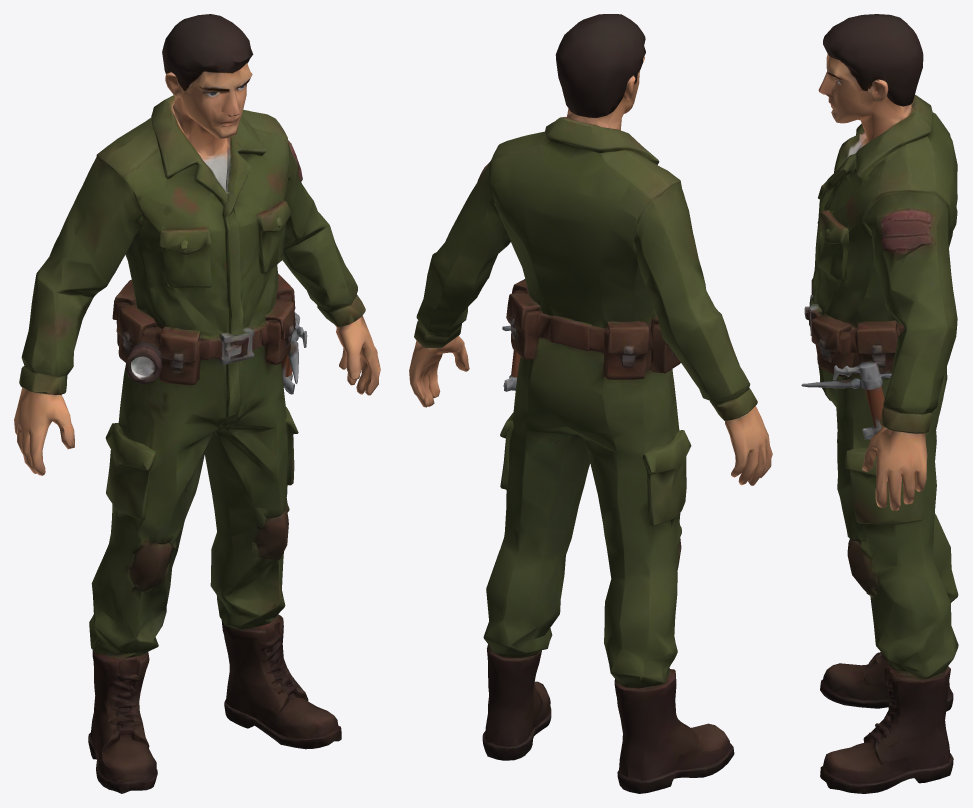
Rendered from char_m_military_idle.glb.
The picture shows the model from 3 angles, left to right: view 1: azimuth 30°, elevation 25°; view 2: azimuth 150°, elevation 25°; view 3: azimuth 270°, elevation 25°; orthographic projection.
Parts seen in each view (by area): view 1: tripo_node_19cd5ef6-6aa0-4612-9d91-3e1b3523b4ae; view 2: tripo_node_19cd5ef6-6aa0-4612-9d91-3e1b3523b4ae; view 3: tripo_node_19cd5ef6-6aa0-4612-9d91-3e1b3523b4ae.
Boxes of the visible parts, box(x1,y1,x2,y2) form: tripo_node_19cd5ef6-6aa0-4612-9d91-3e1b3523b4ae: box(14, 14, 380, 793); tripo_node_19cd5ef6-6aa0-4612-9d91-3e1b3523b4ae: box(409, 14, 772, 793); tripo_node_19cd5ef6-6aa0-4612-9d91-3e1b3523b4ae: box(801, 14, 958, 793).
Bounding box in the file's own units: 0.8997 × 1.8 × 0.3542.
1 material, 1 textured.
